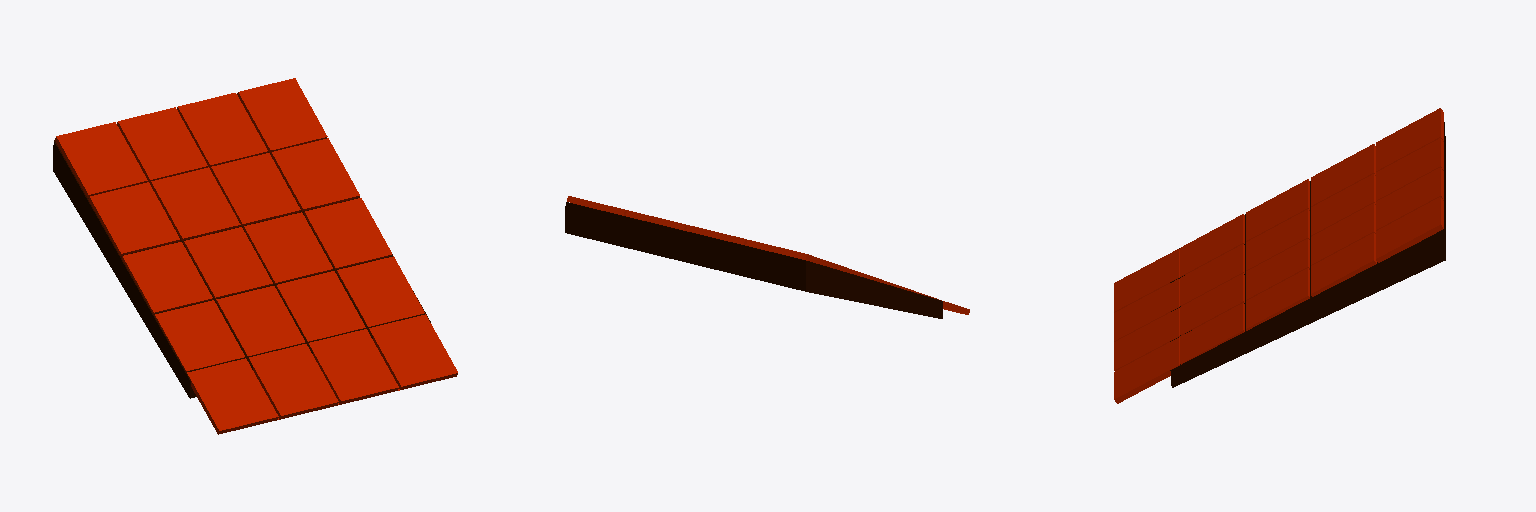
File: Roof.obj
The picture shows the model from 3 angles: view 1: azimuth 30°, elevation 25°; view 2: azimuth 150°, elevation 25°; view 3: azimuth 270°, elevation 25°; orthographic projection.
Visible parts, largest first — view 1: Roof_Cube.098; view 2: Roof_Cube.098; view 3: Roof_Cube.098.
Part boxes in pixels (left/top/right/bottom): Roof_Cube.098: left=53, top=78, right=457, bottom=434; Roof_Cube.098: left=565, top=196, right=969, bottom=318; Roof_Cube.098: left=1114, top=108, right=1445, bottom=403.
Size of the model in its own units: 4.03 by 2.88 by 4.81.